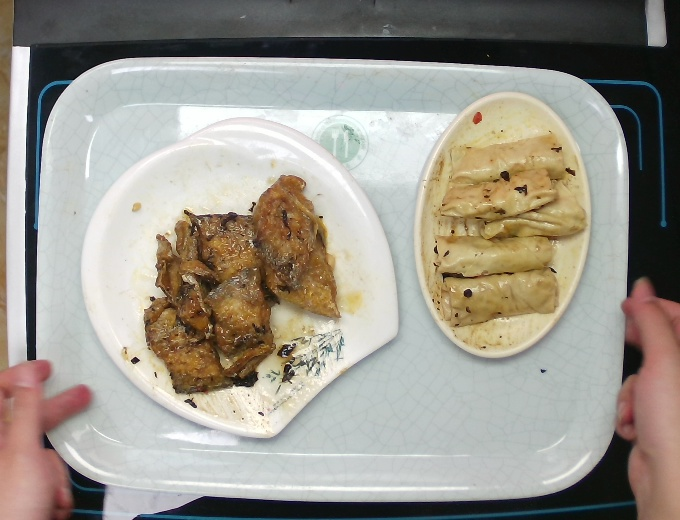JYsf-Mian_Pan: (76, 112, 402, 441)
JYsf-Tuo_Yuan_Wan: (407, 86, 596, 364)
